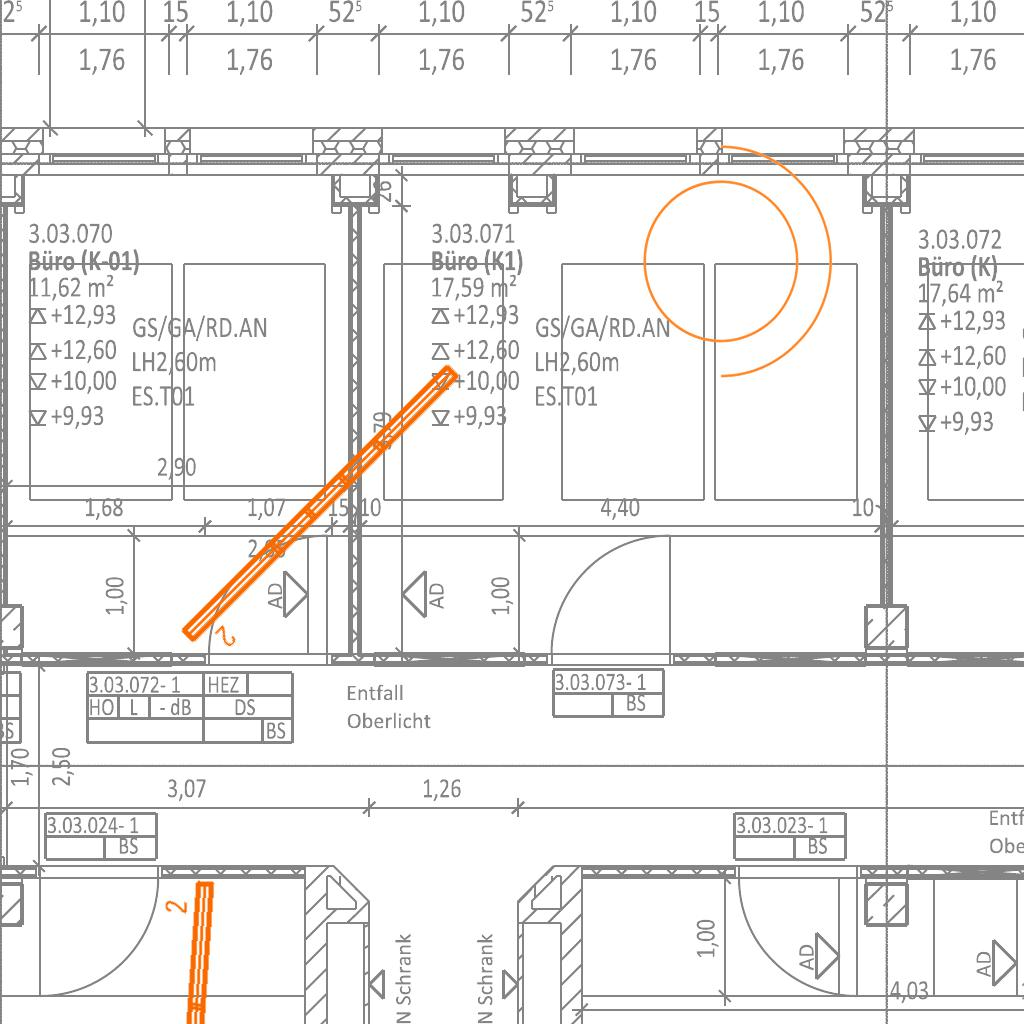Ambulanz_Pendelleuchte_LED: (172, 355, 487, 669), (138, 874, 221, 1024)
Scheinwerfer_fuer_Alarmbeleuchtung: (618, 123, 843, 387)
